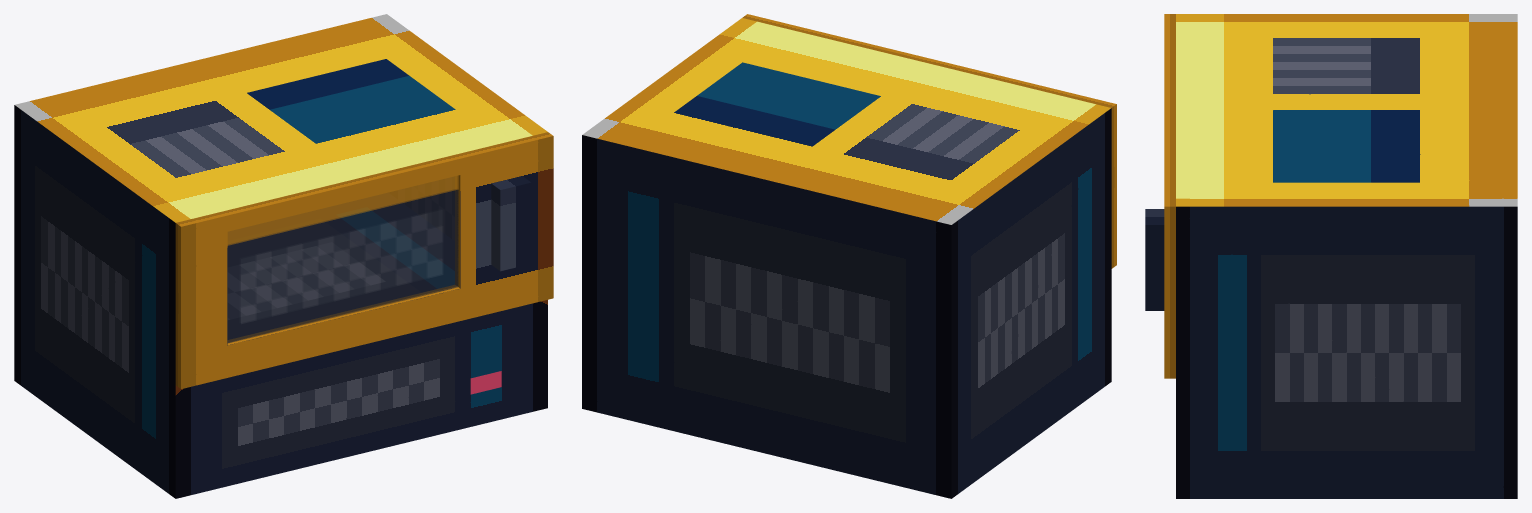
File: microwave_engineering_cell_0.glb
3 views of the same model, side by side, from view 1: azimuth 30°, elevation 25°; view 2: azimuth 150°, elevation 25°; view 3: azimuth 270°, elevation 25° (orthographic). The views are drawn at different scales.
Visible parts, largest first — view 1: Engineering_Continuous_Cabinet, Engineering_Door_Frame, Engineering_Door_Glass, Emission_Overlay, Engineering_Door_Handle; view 2: Engineering_Continuous_Cabinet, Emission_Overlay, Engineering_Door_Frame; view 3: Engineering_Continuous_Cabinet, Emission_Overlay, Engineering_Door_Frame, Engineering_Door_Handle.
Part boxes in pixels (<box>): Engineering_Continuous_Cabinet: <box>14,14,547,498</box>; Engineering_Door_Frame: <box>175,132,553,388</box>; Engineering_Door_Glass: <box>227,175,458,343</box>; Emission_Overlay: <box>247,59,454,143</box>; Engineering_Door_Handle: <box>491,176,531,271</box>; Engineering_Continuous_Cabinet: <box>582,18,1111,498</box>; Emission_Overlay: <box>674,62,880,146</box>; Engineering_Door_Frame: <box>742,14,1116,268</box>; Engineering_Continuous_Cabinet: <box>1176,14,1517,498</box>; Emission_Overlay: <box>1273,110,1419,182</box>; Engineering_Door_Frame: <box>1164,14,1175,378</box>; Engineering_Door_Handle: <box>1145,209,1164,310</box>.
Bounding box in the file's own units: 0.675 × 0.4785 × 0.5513.
Materials: 3 (3 with a texture image).
